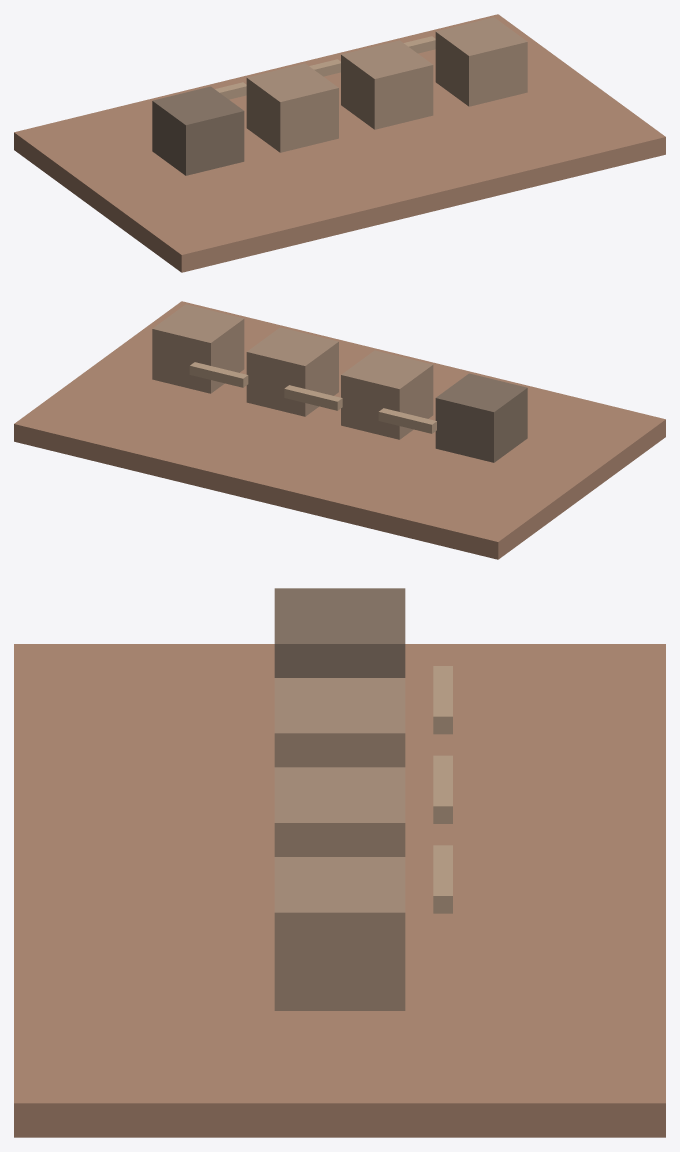
3 renders of one model, top to bottom at view 1: azimuth 30°, elevation 25°; view 2: azimuth 150°, elevation 25°; view 3: azimuth 270°, elevation 25°, orthographic. The views are drawn at different scales.
Parts seen in each view (by area): view 1: substrate: water filter, [01] phage loading / immobilization layer, [03] surface substrate (coating architecture), [02] release or contact-kill mechanism, [04] stability preservation element; view 2: substrate: water filter, [01] phage loading / immobilization layer, [04] stability preservation element, [02] release or contact-kill mechanism, [03] surface substrate (coating architecture), flow 3 -> 4, flow 2 -> 3, flow 1 -> 2; view 3: substrate: water filter, [04] stability preservation element, [01] phage loading / immobilization layer, [03] surface substrate (coating architecture), [02] release or contact-kill mechanism, flow 1 -> 2, flow 2 -> 3, flow 3 -> 4.
Part boxes in pixels (left/top/right/bottom): substrate: water filter: left=14, top=14, right=665, bottom=272; [01] phage loading / immobilization layer: left=152, top=86, right=244, bottom=175; [03] surface substrate (coating architecture): left=341, top=40, right=433, bottom=129; [02] release or contact-kill mechanism: left=246, top=63, right=338, bottom=152; [04] stability preservation element: left=435, top=17, right=527, bottom=106; substrate: water filter: left=14, top=301, right=665, bottom=559; [01] phage loading / immobilization layer: left=435, top=373, right=527, bottom=462; [04] stability preservation element: left=152, top=304, right=244, bottom=393; [02] release or contact-kill mechanism: left=341, top=350, right=433, bottom=439; [03] surface substrate (coating architecture): left=246, top=327, right=338, bottom=416; flow 3 -> 4: left=189, top=362, right=248, bottom=387; flow 2 -> 3: left=284, top=385, right=342, bottom=410; flow 1 -> 2: left=378, top=408, right=436, bottom=433; substrate: water filter: left=14, top=644, right=665, bottom=1137; [04] stability preservation element: left=274, top=857, right=405, bottom=1010; [01] phage loading / immobilization layer: left=274, top=588, right=405, bottom=677; [03] surface substrate (coating architecture): left=274, top=767, right=405, bottom=856; [02] release or contact-kill mechanism: left=274, top=678, right=405, bottom=767; flow 1 -> 2: left=433, top=666, right=452, bottom=734; flow 2 -> 3: left=433, top=755, right=452, bottom=823; flow 3 -> 4: left=433, top=845, right=452, bottom=913.
Size of the model in its own units: 10 by 1.6 by 6.
